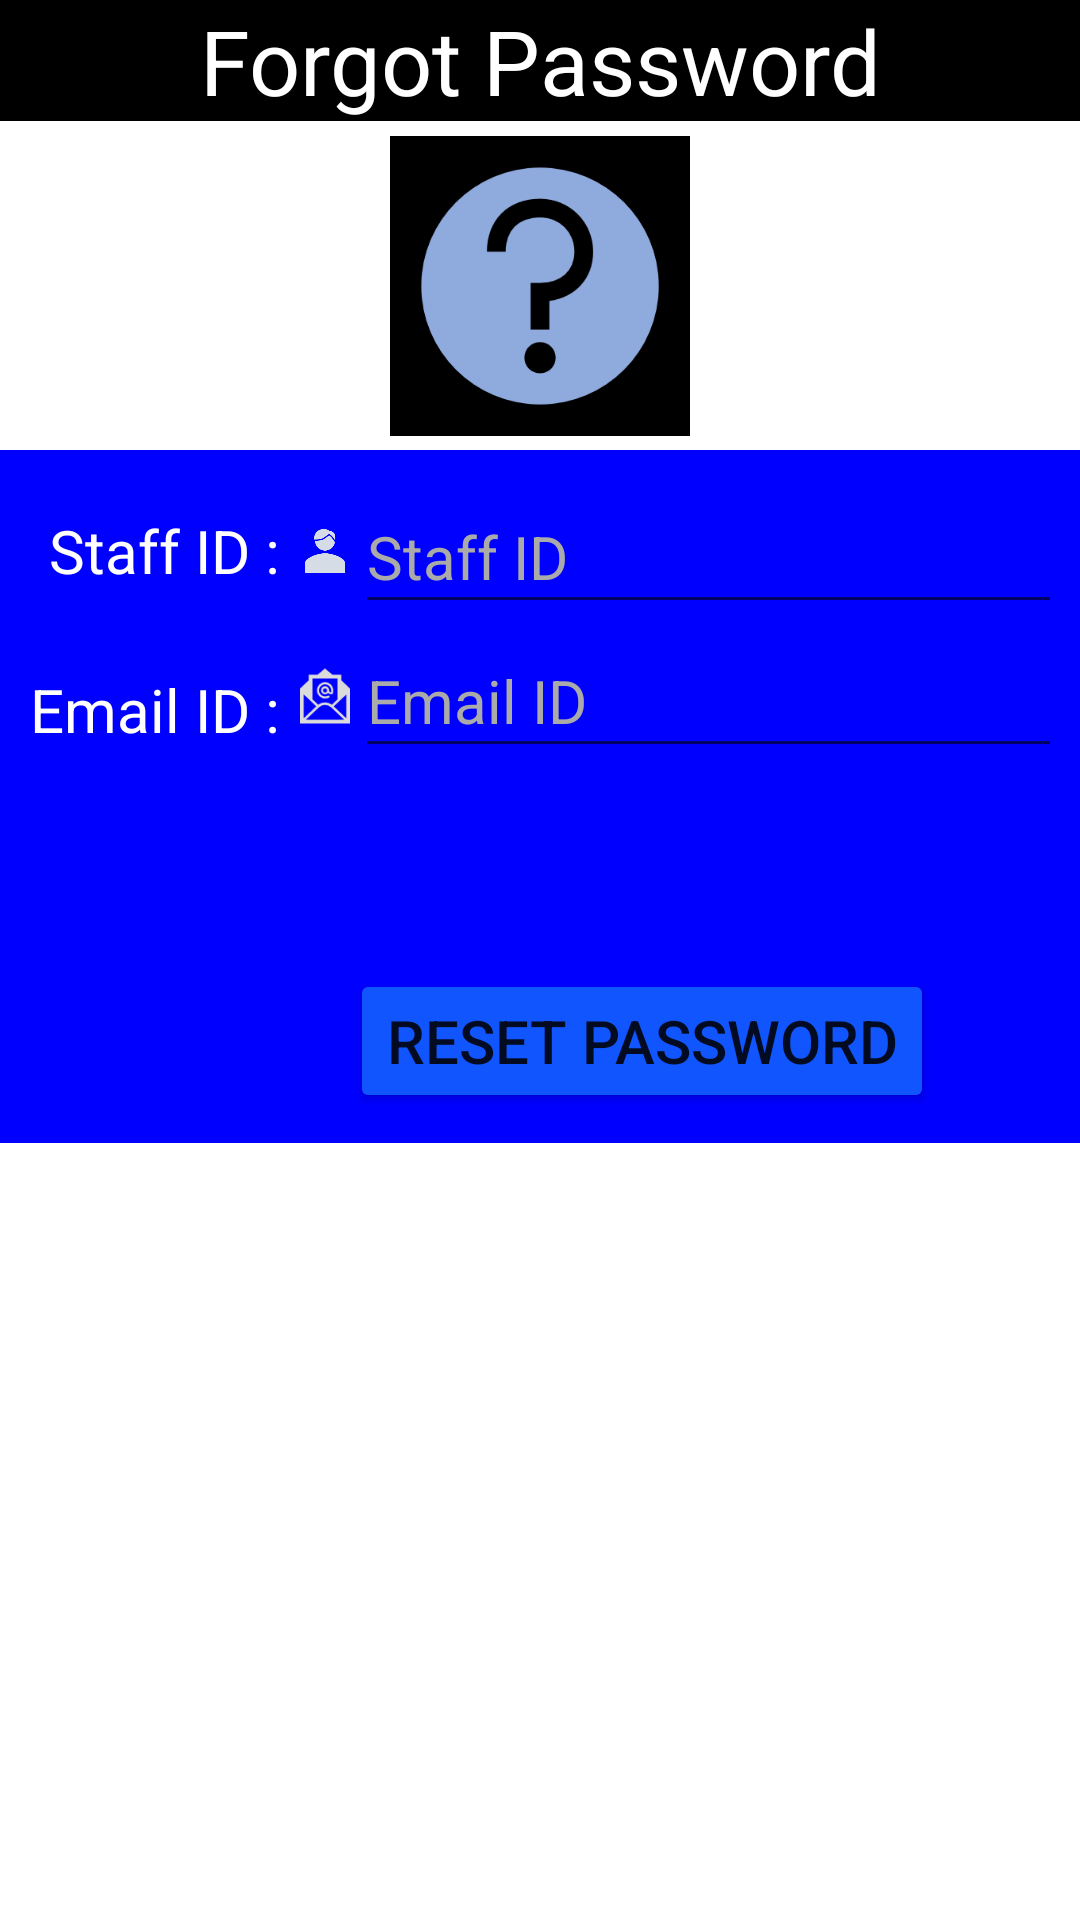

Point at icon controls on the screen. Image size 1080*1920, points as (x,y).
ask: (540,286)
user: (325,551)
